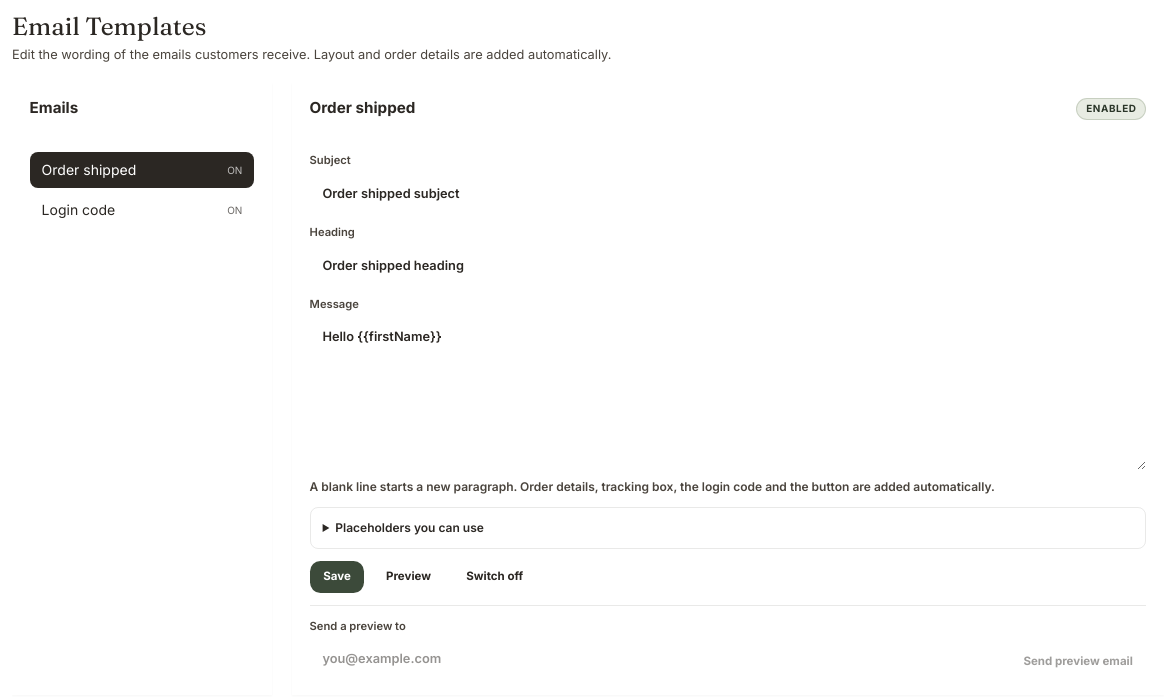
Scenario: Admin → Email Templates › shows a server validation error for an unknown placeholder
This screenshot has width=1164, height=697.
Expected: the field labelled "Subject" is shown, [310,174,1146,212]
Click the button "Save".
click(337, 577)  # box [310,561,364,593]
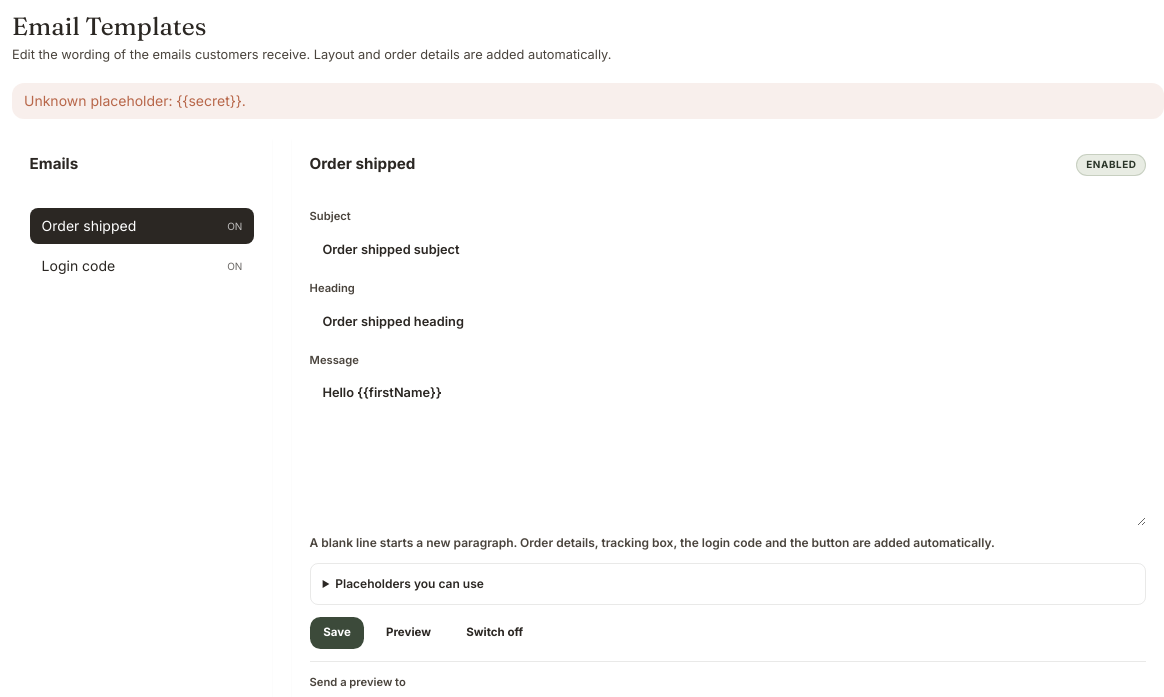
Expected: the message shows "Unknown placeholder", [24,92,246,109]
